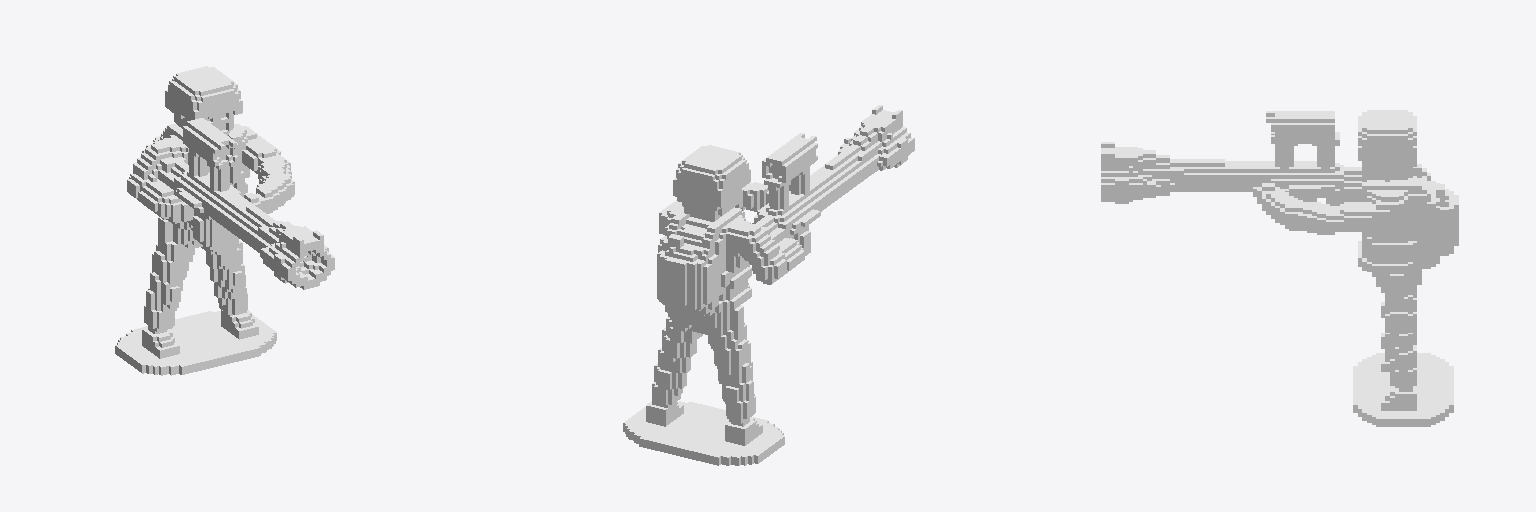
The model's file is snajper_soldier_LVL3_3.0.obj.
3 views of the same model, side by side, from view 1: azimuth 30°, elevation 25°; view 2: azimuth 150°, elevation 25°; view 3: azimuth 270°, elevation 25° (orthographic).
Parts seen in each view (by area): view 1: object 1; view 2: object 1; view 3: object 1.
Part boxes in pixels (x1,y1,x2,y2): object 1: (115,66,334,375); object 1: (623,105,914,465); object 1: (1101,110,1458,426).
Bounding box in the file's own units: 3.5 × 6.6 × 7.8.